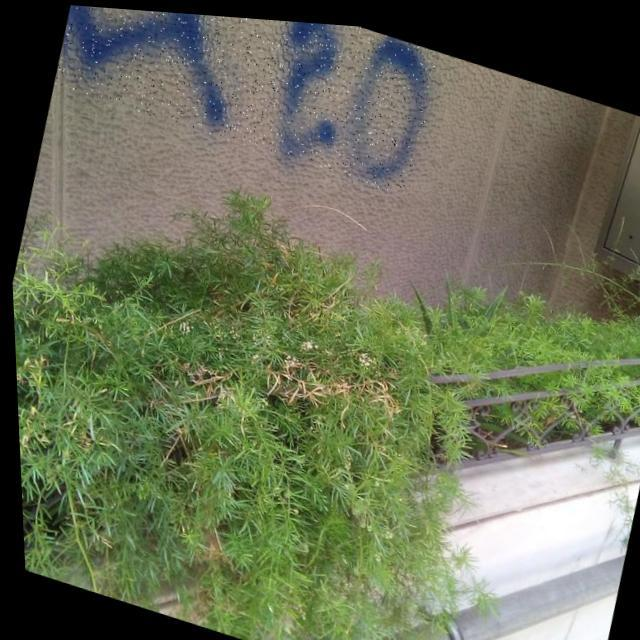-: (50, 2, 445, 194)
